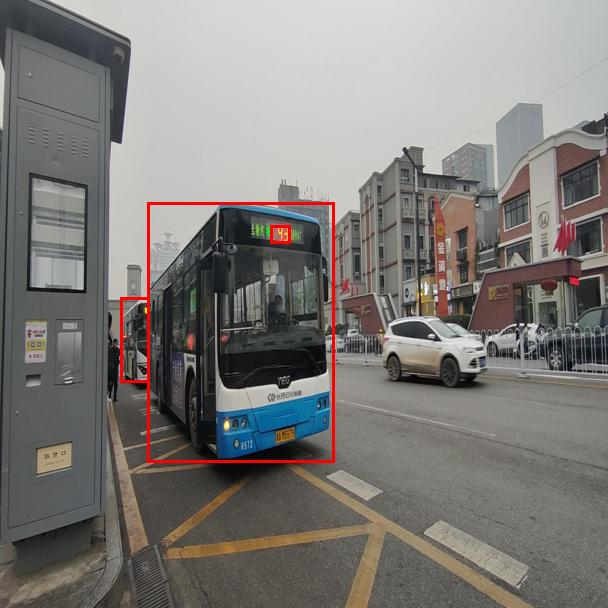bus: (147, 202, 334, 462), (120, 297, 149, 382)
screen: (270, 225, 290, 243)
